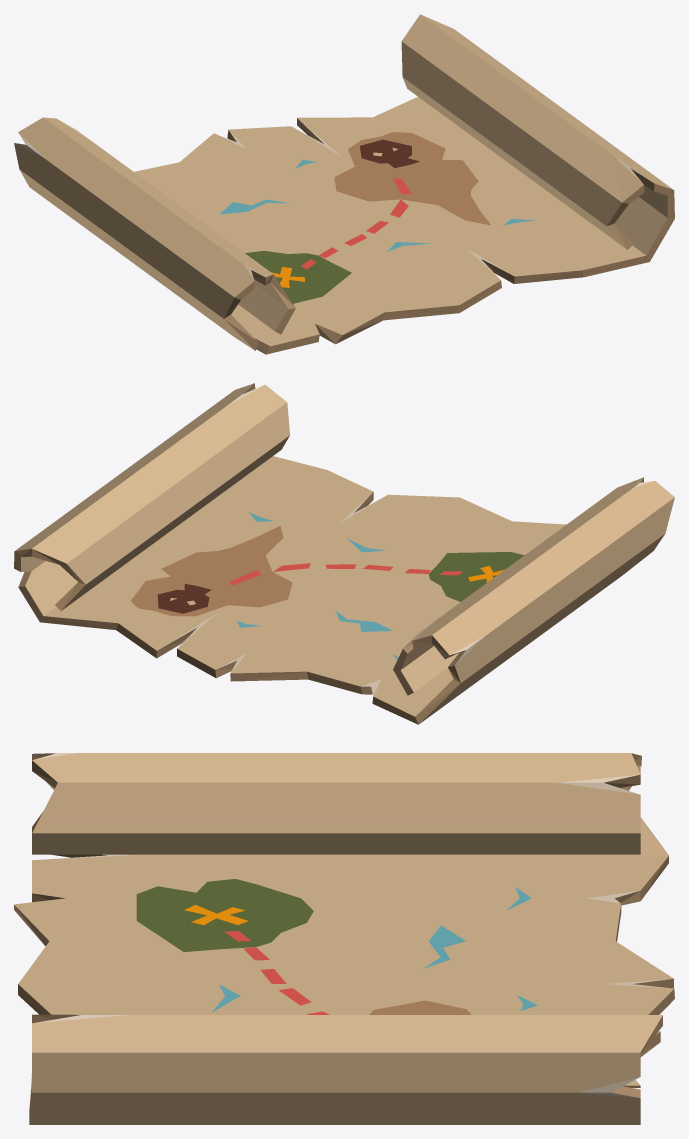
Rendered from Map_04.glb.
3 renders of one model, top to bottom at view 1: azimuth 30°, elevation 25°; view 2: azimuth 150°, elevation 25°; view 3: azimuth 270°, elevation 25°, orthographic. The views are drawn at different scales.
Parts seen in each view (by area): view 1: Map_04; view 2: Map_04; view 3: Map_04.
Boxes of the visible parts, left/top/right/bottom form: Map_04: left=14, top=14, right=674, bottom=354; Map_04: left=14, top=383, right=674, bottom=724; Map_04: left=14, top=753, right=674, bottom=1124.
Size of what is drawn, in the model's own units: 0.7149 by 0.1247 by 0.6722.
1 material, 1 textured.
